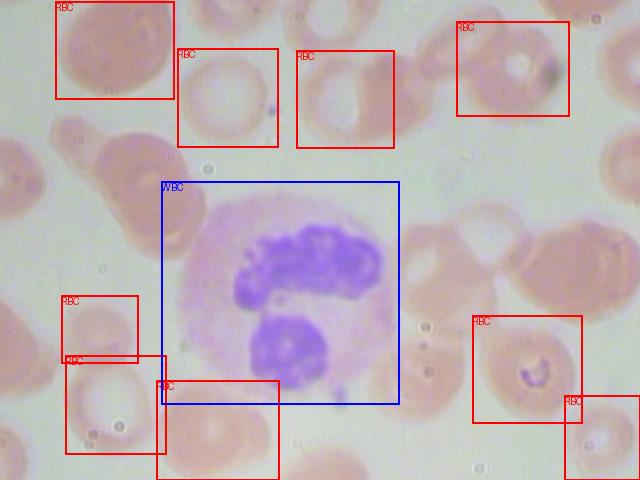RBC: (156, 380, 279, 480), (472, 315, 582, 423), (55, 1, 174, 99), (456, 21, 569, 116), (177, 48, 278, 147), (65, 355, 166, 454), (296, 50, 394, 148), (564, 395, 640, 480), (61, 295, 138, 363)
WBC: (161, 181, 399, 404)
